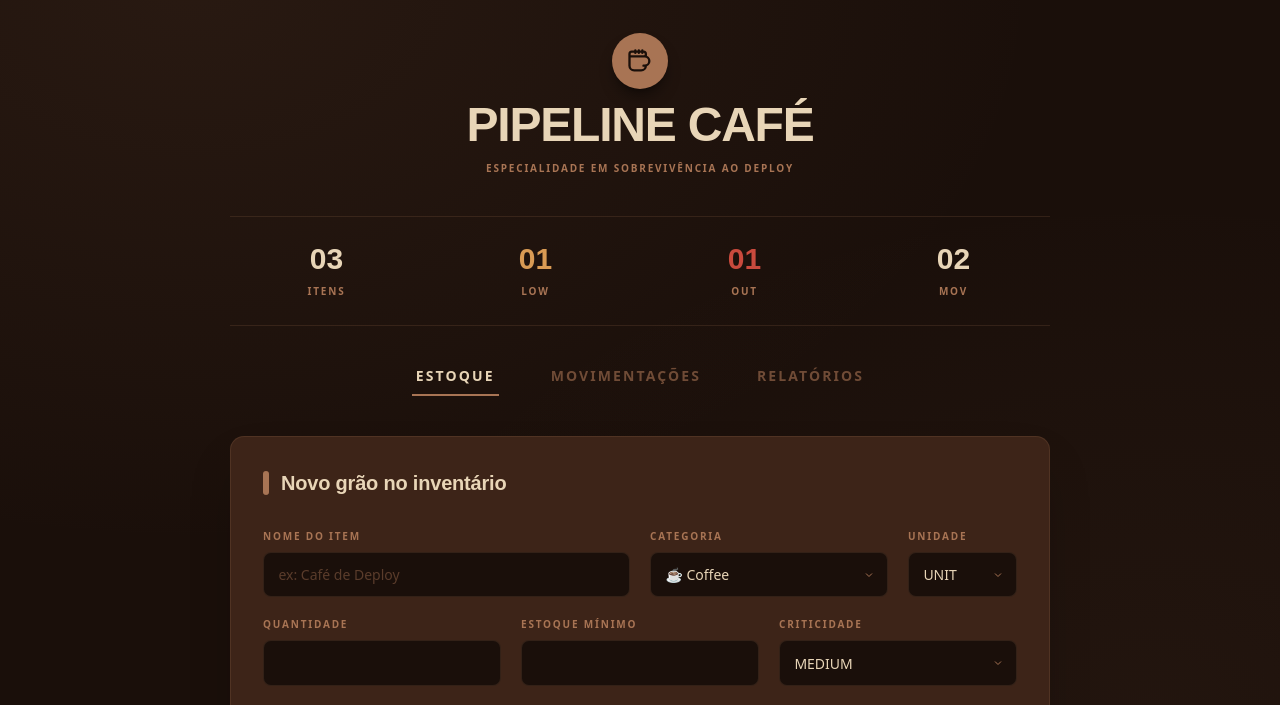
Scenario: PipelineCafePage › formulário de item › cadastra item quando formulário é válido
The width and height of the screenshot is (1280, 705).
Type "Novo Grão" into the field with placeholder "ex: Café de Deploy" at (446, 575), box [263, 552, 630, 597]
Select "🥐 Snack" in the dropdown labelled "Categoria" at (769, 575), box [650, 552, 888, 597]
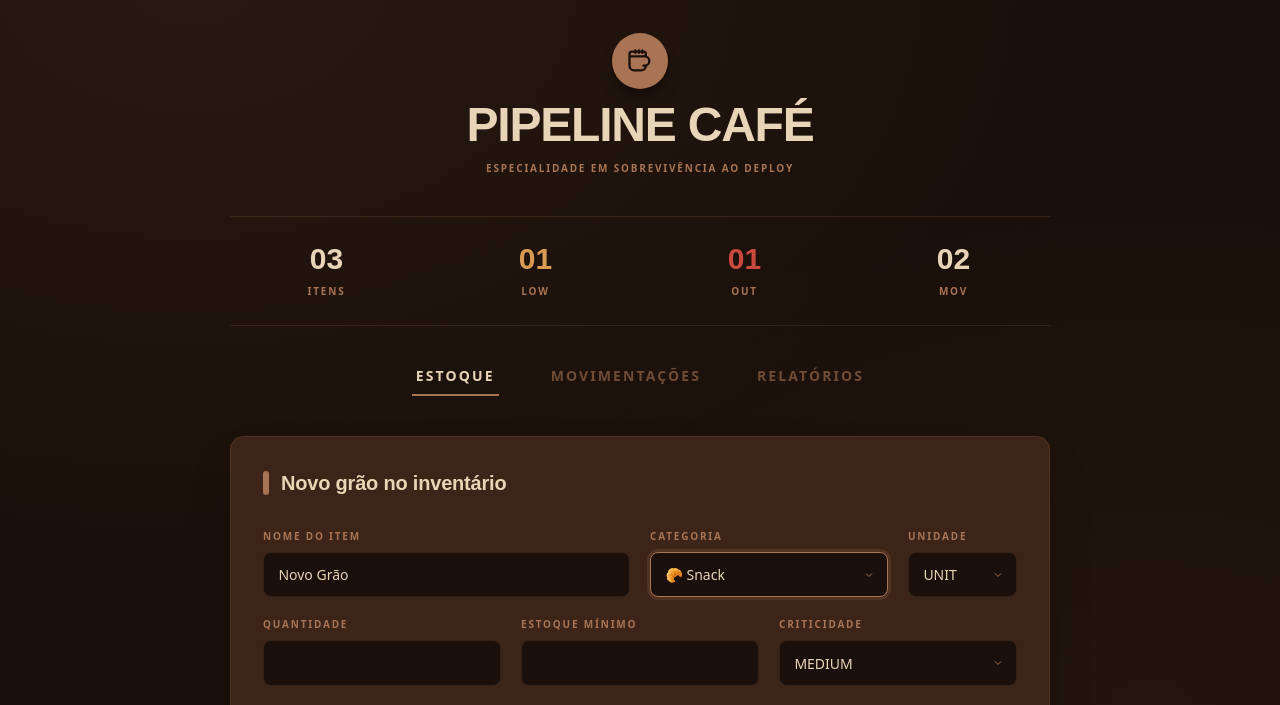
Select "KG" in the dropdown labelled "Unidade" at (962, 575), box [908, 552, 1017, 597]
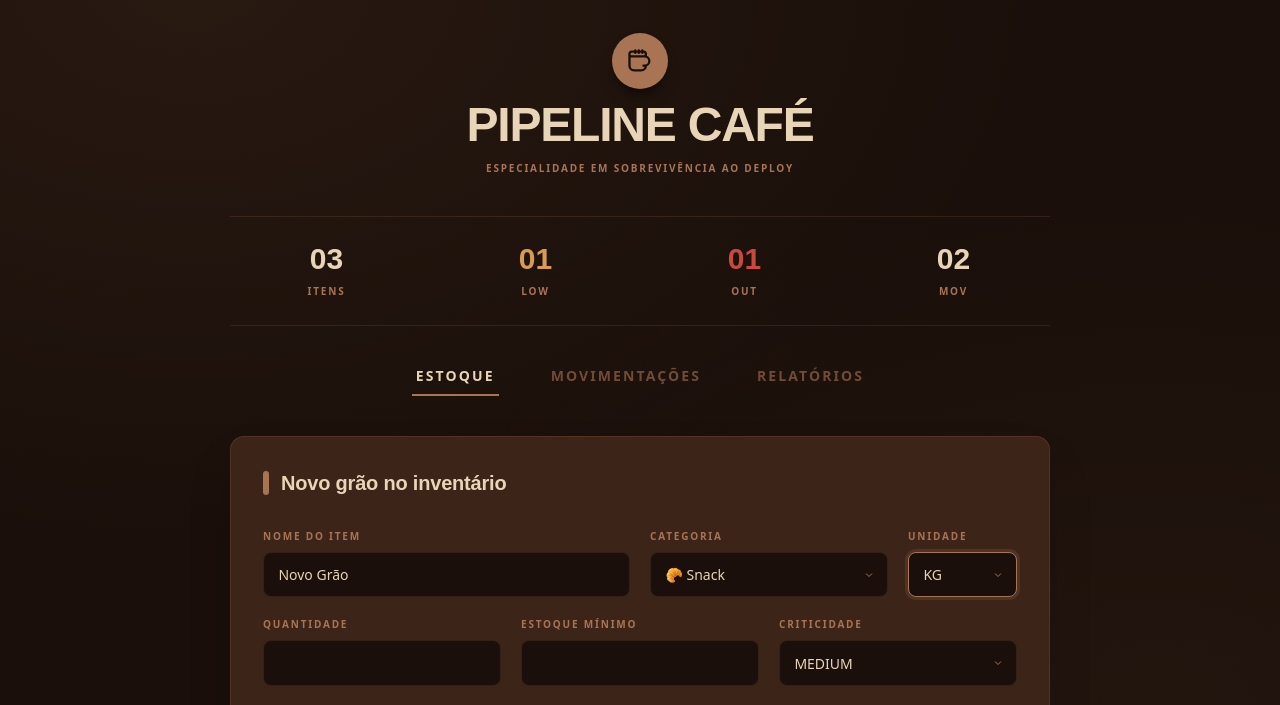
Type "5" into the number field labelled "Quantidade" at (382, 663), box [263, 640, 501, 686]
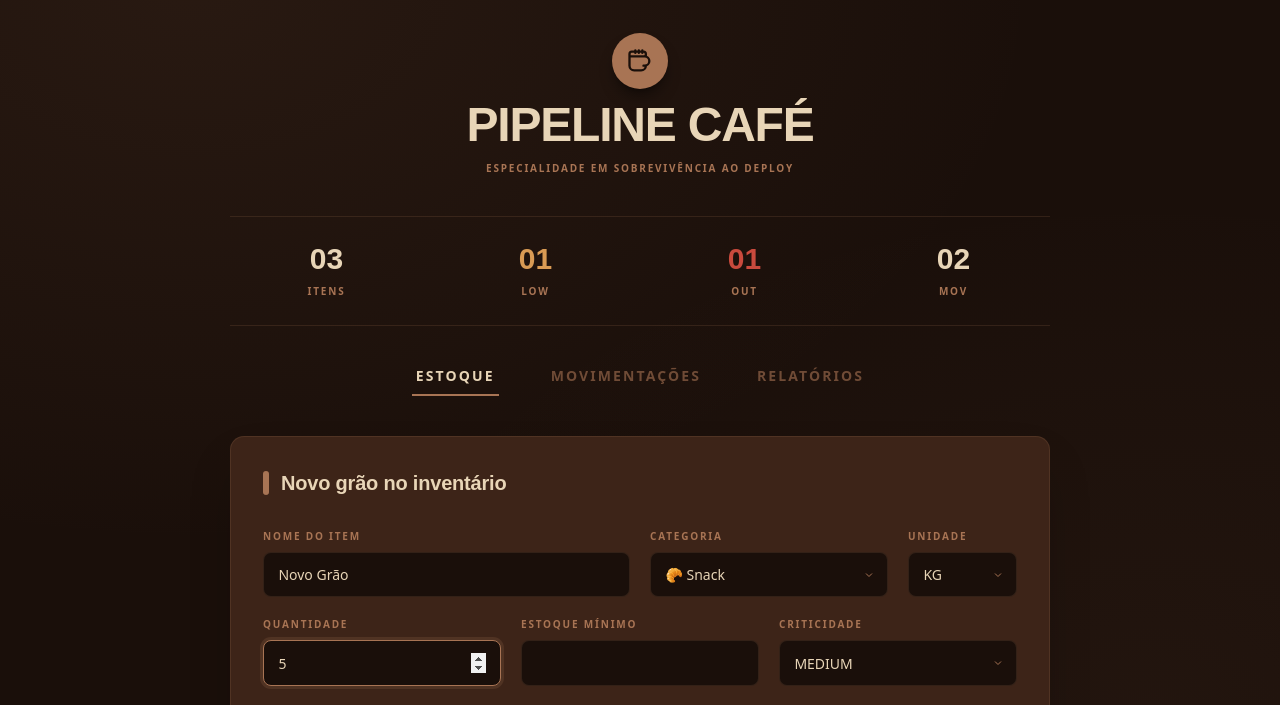
Type "2" into the number field labelled "Estoque Mínimo" at (640, 663), box [521, 640, 759, 686]
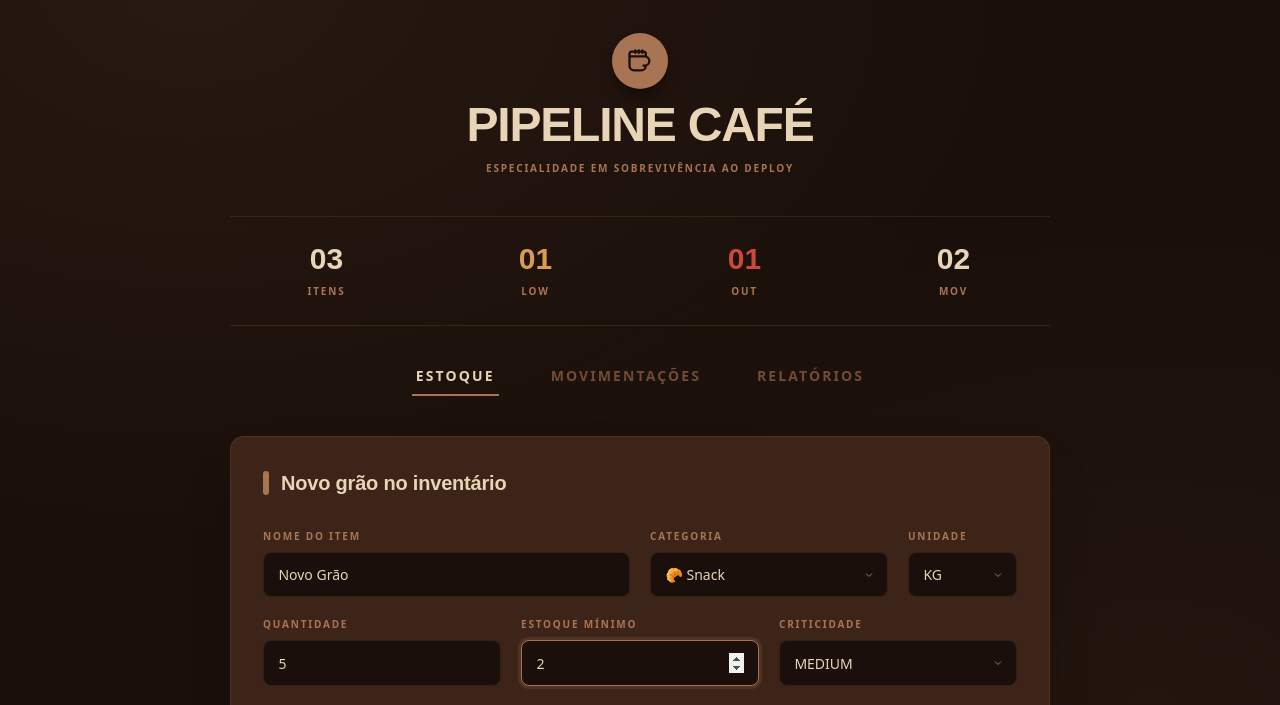
Select "HIGH" in the dropdown labelled "Criticidade" at (898, 663), box [779, 640, 1017, 686]
(page scrolled)
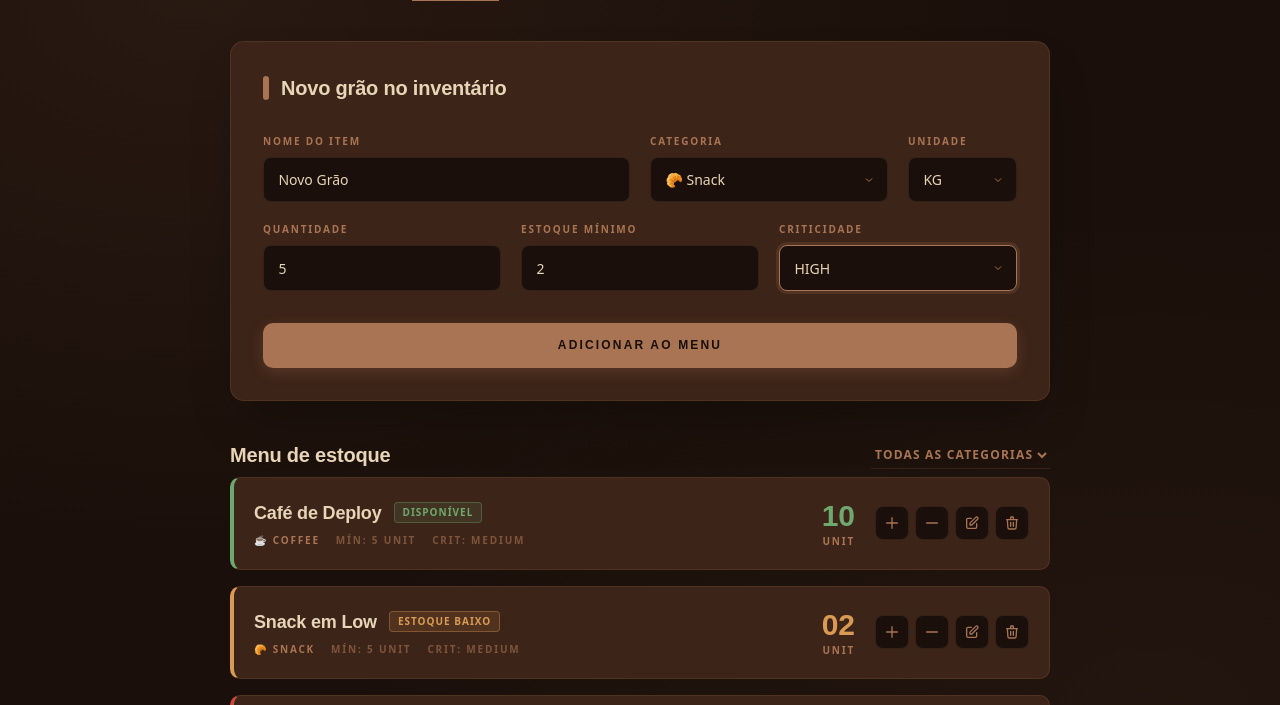
Click the button "ADICIONAR AO MENU" at (640, 345), box [263, 323, 1017, 368]
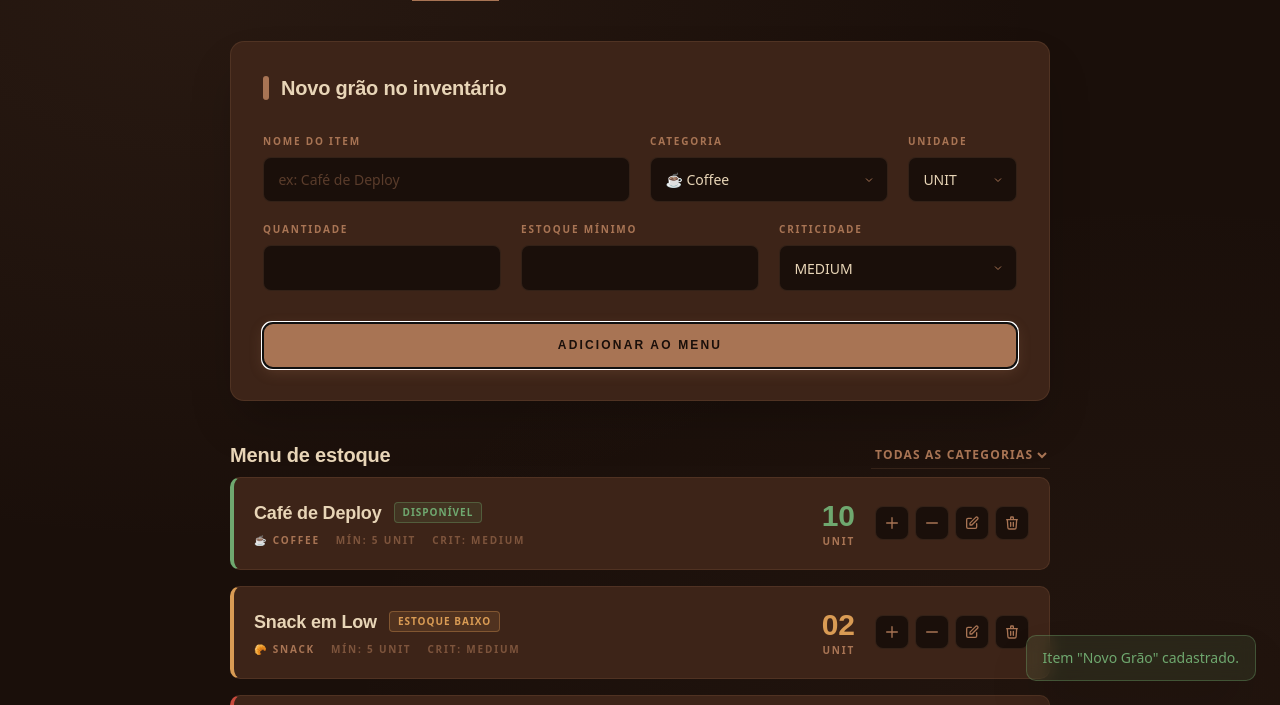
Check: the text "Item \"Novo Grão\" cadastrado." is shown, box [1026, 635, 1256, 681]
